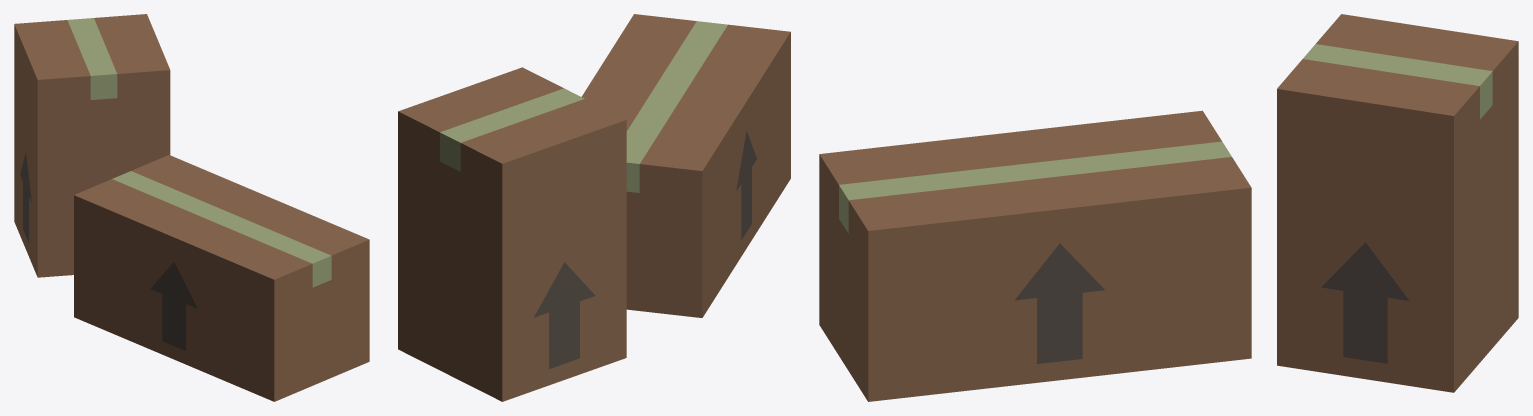
Rendered from prop_boxes_1.fbx.
The picture shows the model from 3 angles, left to right: view 1: azimuth 30°, elevation 25°; view 2: azimuth 150°, elevation 25°; view 3: azimuth 270°, elevation 25°; orthographic projection. The views are drawn at different scales.
Parts seen in each view (by area): view 1: prop_boxes_1; view 2: prop_boxes_1; view 3: prop_boxes_1.
Boxes of the visible parts, left/top/right/bottom form: prop_boxes_1: left=14, top=14, right=369, bottom=401; prop_boxes_1: left=398, top=14, right=790, bottom=401; prop_boxes_1: left=819, top=14, right=1518, bottom=401.
Size of the model in its own units: 10.67 by 11.43 by 26.18.
